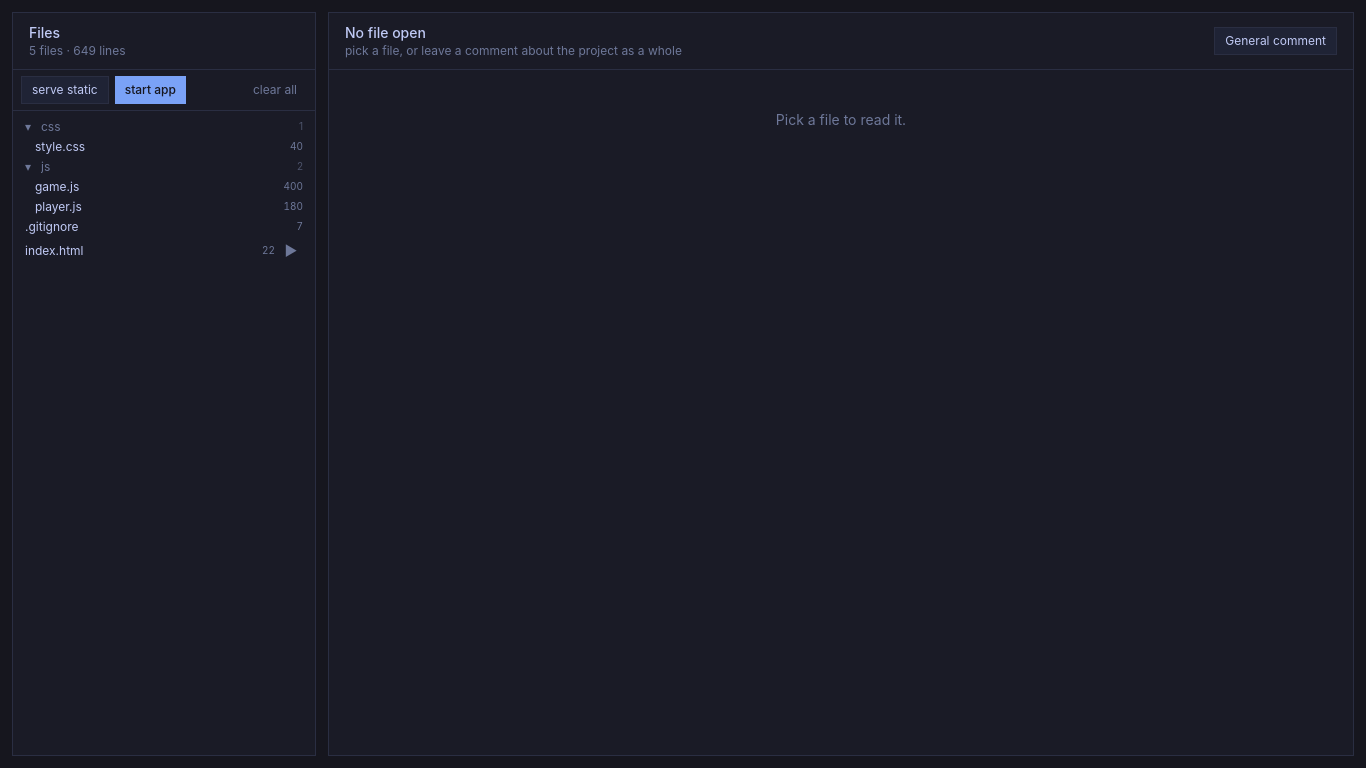
it: the files screen › opens a file and offers commenting on a line
The image size is (1366, 768).
Click the text "index.html" at (54, 250), box [25, 243, 84, 258]
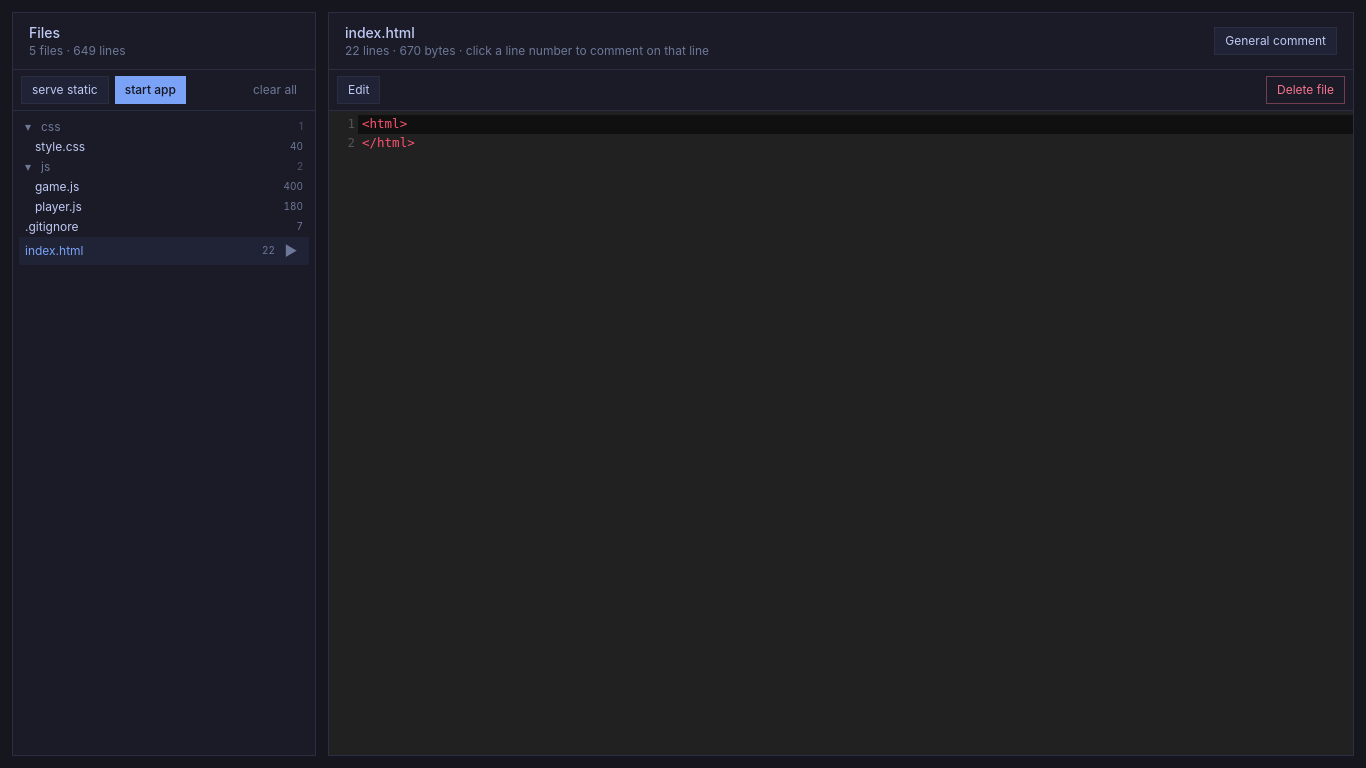
Check: the text "click a line number to comment" is shown, box [345, 43, 709, 58]
